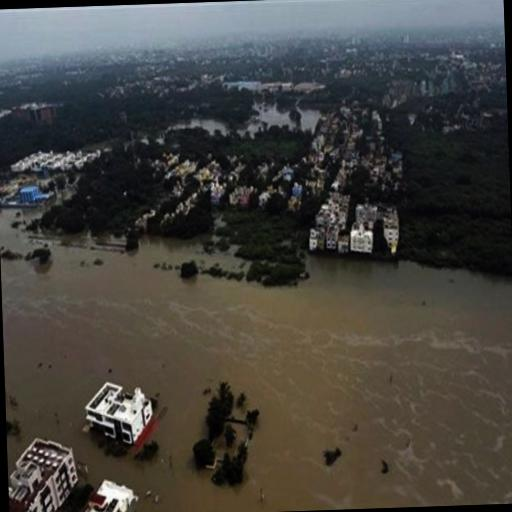flood: (0, 205, 512, 512), (236, 112, 292, 137), (175, 119, 228, 135), (301, 109, 320, 130)
house: (6, 437, 79, 512), (82, 378, 156, 450), (77, 475, 138, 512), (18, 184, 42, 204)
